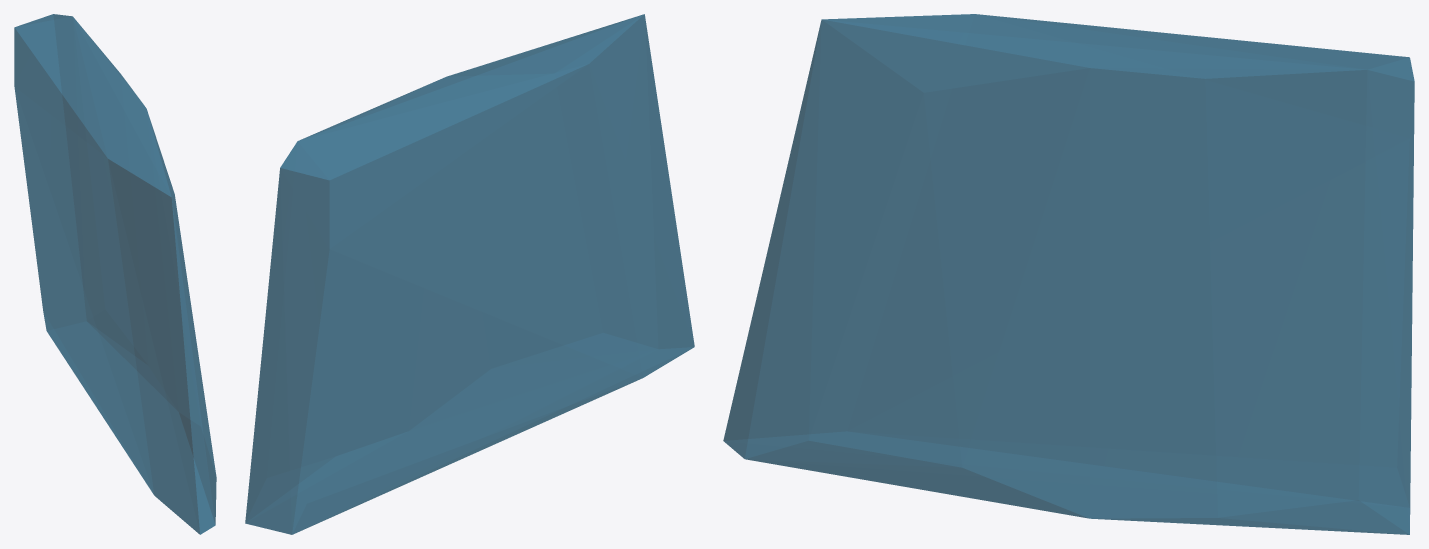
The picture shows the model from 3 angles, left to right: view 1: azimuth 30°, elevation 25°; view 2: azimuth 150°, elevation 25°; view 3: azimuth 270°, elevation 25°; orthographic projection. The views are drawn at different scales.
Visible parts, largest first — view 1: Shape_IndexedFaceSet.066_Shape_IndexedFaceSet.107; view 2: Shape_IndexedFaceSet.066_Shape_IndexedFaceSet.107; view 3: Shape_IndexedFaceSet.066_Shape_IndexedFaceSet.107.
Part boxes in pixels (left/top/right/bottom): Shape_IndexedFaceSet.066_Shape_IndexedFaceSet.107: left=14, top=14, right=216, bottom=534; Shape_IndexedFaceSet.066_Shape_IndexedFaceSet.107: left=245, top=14, right=694, bottom=534; Shape_IndexedFaceSet.066_Shape_IndexedFaceSet.107: left=723, top=14, right=1414, bottom=534.
Bounding box in the file's own units: 0.1303 × 0.2944 × 0.4143.
